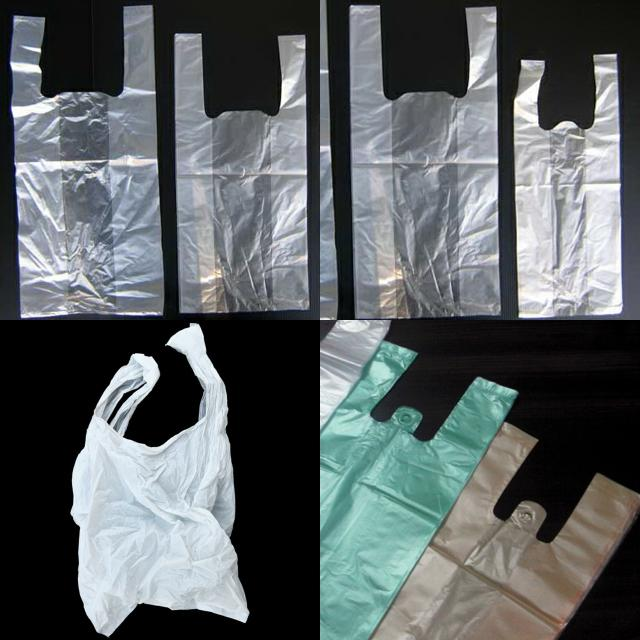Single-layer Plastic: (371, 422, 640, 639), (321, 341, 516, 639), (71, 324, 249, 636), (10, 6, 164, 318), (350, 5, 500, 318), (175, 34, 310, 312), (514, 54, 622, 318)
